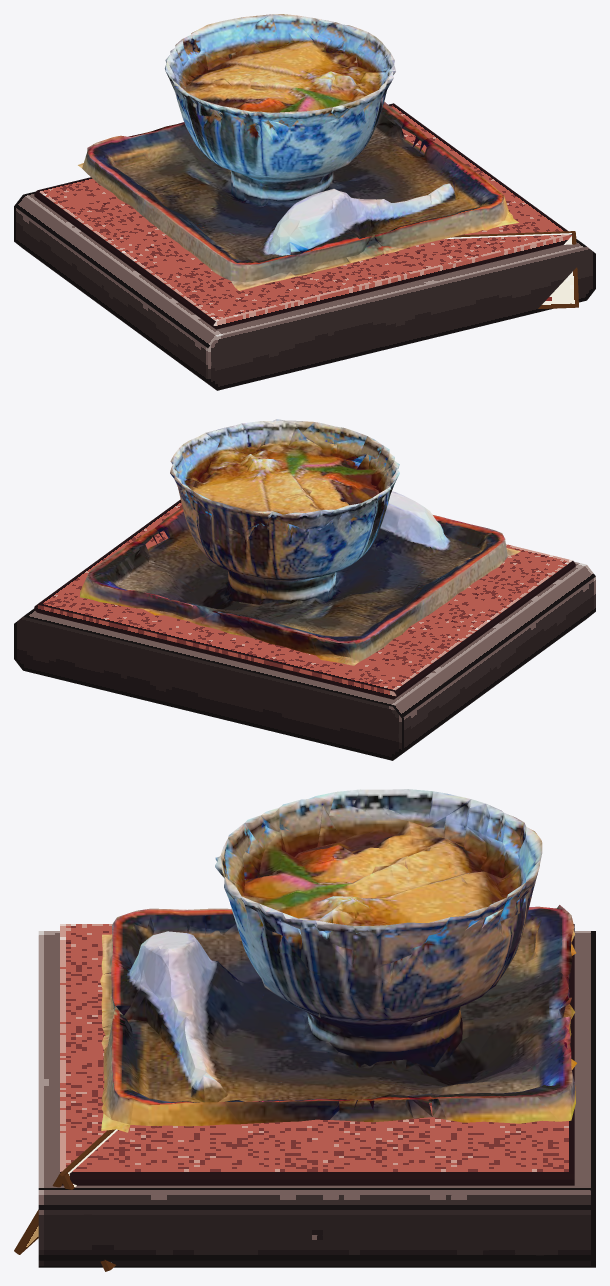
Rendered from udon.glb.
3 renders of one model, top to bottom at view 1: azimuth 30°, elevation 25°; view 2: azimuth 150°, elevation 25°; view 3: azimuth 270°, elevation 25°, orthographic. The views are drawn at different scales.
Parts seen in each view (by area): view 1: model_bowl, base, felt, card1; view 2: model_bowl, base, felt; view 3: model_bowl, base, felt, card1.
Part boxes in pixels (x1,y1,x2,y2): model_bowl: (78,14,518,290); base: (14,191,595,390); felt: (34,103,572,329); card1: (444,233,578,308); model_bowl: (80,419,520,665); base: (14,561,595,760); felt: (34,499,575,699); model_bowl: (100,789,576,1132); base: (38,931,595,1267); felt: (60,924,574,1185); card1: (14,1129,113,1254).
Size of the model in its own units: 30.12 by 14.6 by 27.15.
Materials: 2 (2 with a texture image).
